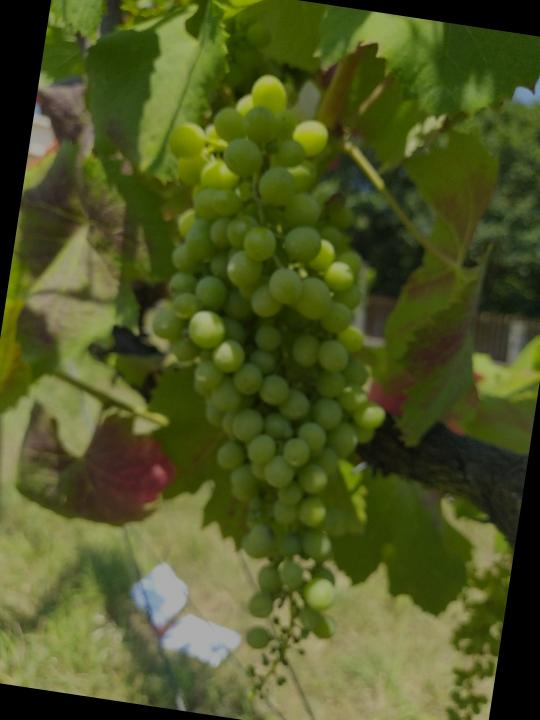grape: (88, 59, 439, 720)
